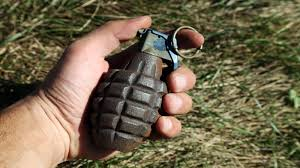bomb: (88, 27, 177, 150)
